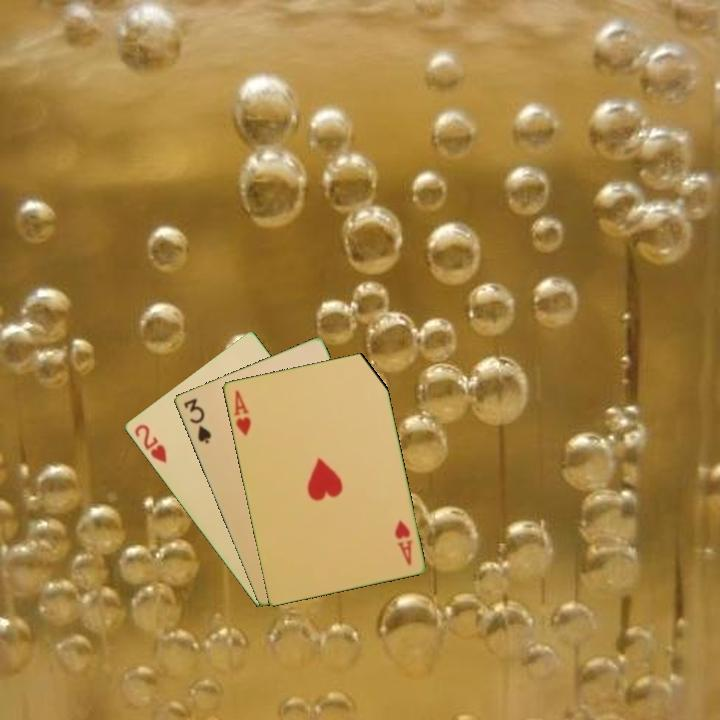2h: (130, 421, 170, 466)
3s: (180, 394, 214, 446)
Ah: (230, 386, 254, 439), (391, 516, 415, 568)
